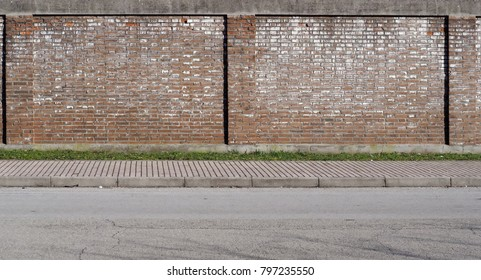Wall: (1, 15, 479, 142)
